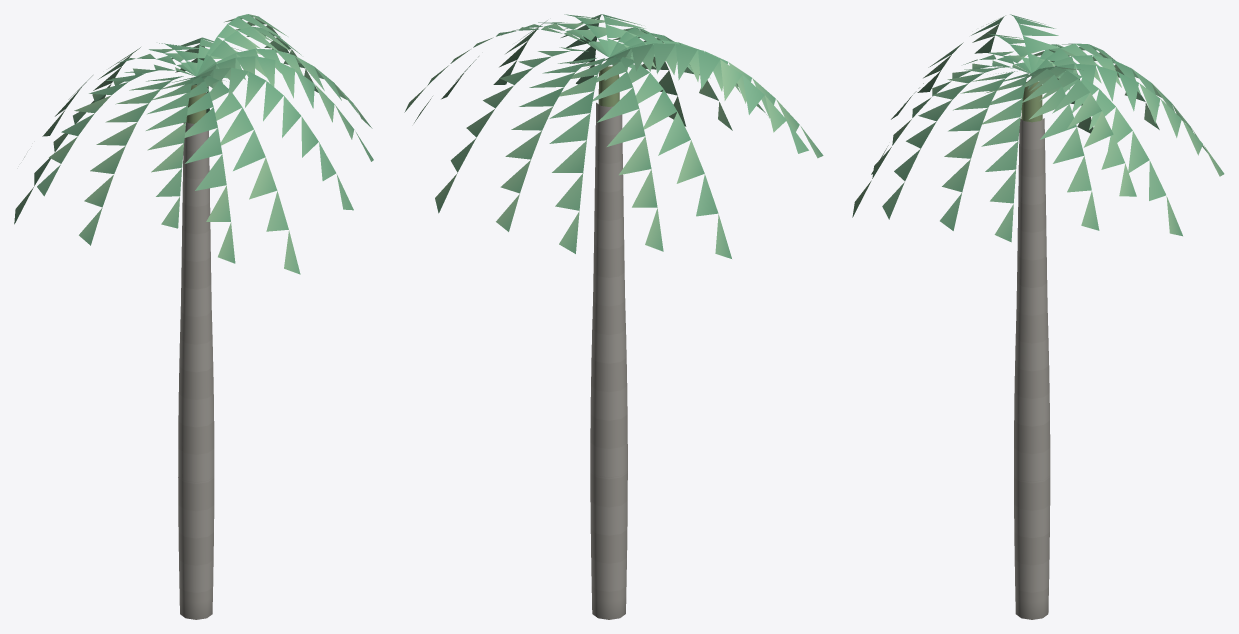
Rendered from palm_royal_tall.glb.
3 views of the same model, side by side, from view 1: azimuth 30°, elevation 25°; view 2: azimuth 150°, elevation 25°; view 3: azimuth 270°, elevation 25° (orthographic). The views are drawn at different scales.
Parts seen in each view (by area): view 1: palm_royal_tall; view 2: palm_royal_tall; view 3: palm_royal_tall.
Boxes of the visible parts, x1,y1,x2,y2 form: palm_royal_tall: (14, 14, 373, 619); palm_royal_tall: (404, 14, 823, 619); palm_royal_tall: (852, 14, 1224, 619).
Bounding box in the file's own units: 8.05 × 12.79 × 7.62.
